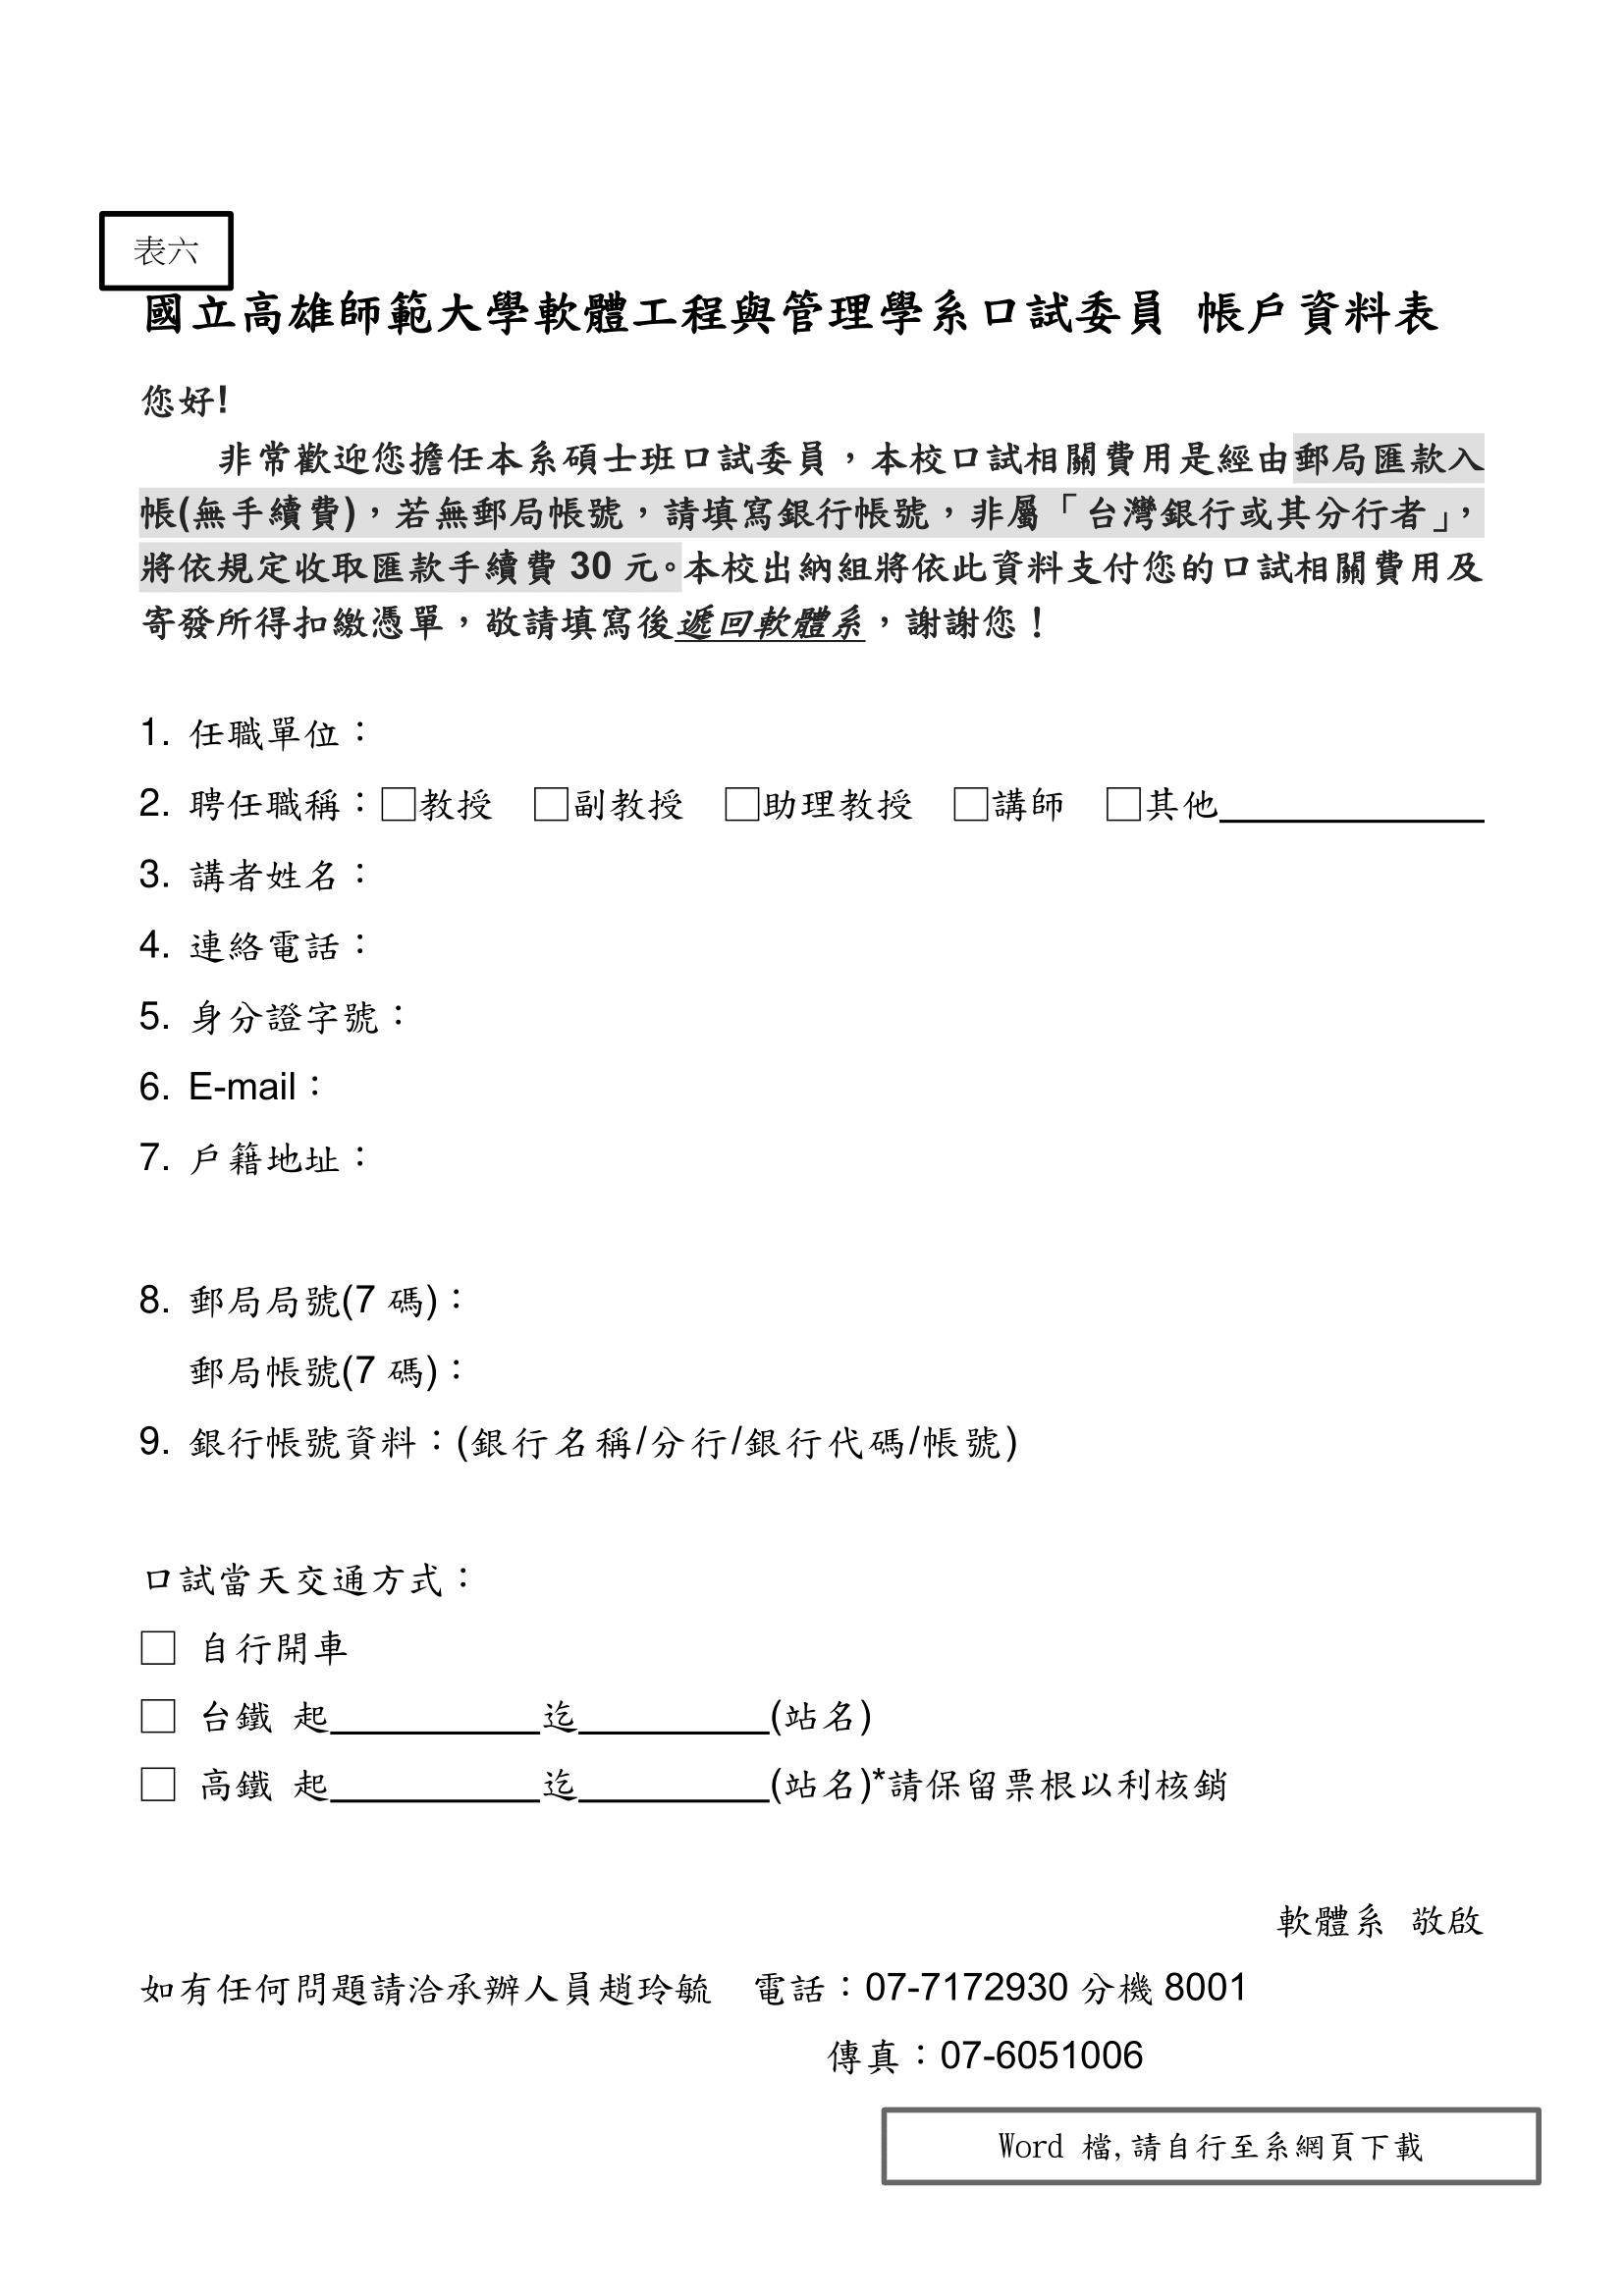check_box: (127, 1686, 188, 1741), (710, 776, 766, 833), (127, 1621, 188, 1672), (1095, 776, 1148, 833), (127, 1755, 183, 1808), (522, 776, 573, 833), (940, 776, 995, 826), (369, 776, 417, 833)
input: (1220, 757, 1483, 836), (571, 1676, 772, 1750), (325, 1688, 533, 1750), (582, 1764, 772, 1818), (334, 1764, 540, 1813)
text: (121, 374, 1512, 653), (132, 1960, 1260, 2085), (132, 290, 1454, 357), (130, 1416, 1035, 1490), (766, 1746, 1244, 1827), (977, 2108, 1436, 2173), (127, 1551, 487, 1609), (121, 1267, 468, 1319), (121, 845, 380, 915), (127, 991, 411, 1051), (183, 1344, 475, 1400), (1269, 1878, 1490, 1952), (123, 706, 387, 766), (123, 924, 378, 978), (132, 1137, 380, 1191), (130, 1059, 330, 1121), (127, 776, 362, 826), (568, 761, 692, 843), (763, 776, 910, 836), (772, 1681, 891, 1746), (197, 1760, 330, 1813), (197, 1621, 362, 1662), (417, 764, 501, 833), (197, 1695, 323, 1736), (997, 769, 1070, 836), (1148, 764, 1214, 833), (121, 227, 220, 271), (541, 1764, 580, 1818), (534, 1681, 568, 1736)
